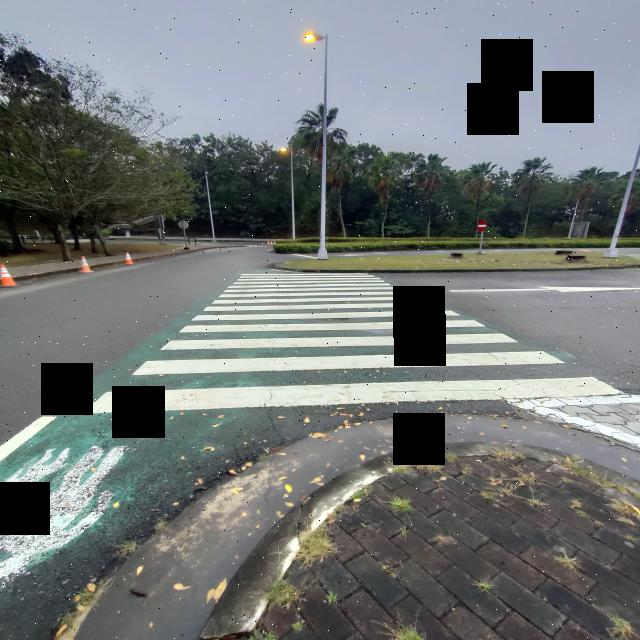zebra_crossing: (76, 274, 622, 417)
